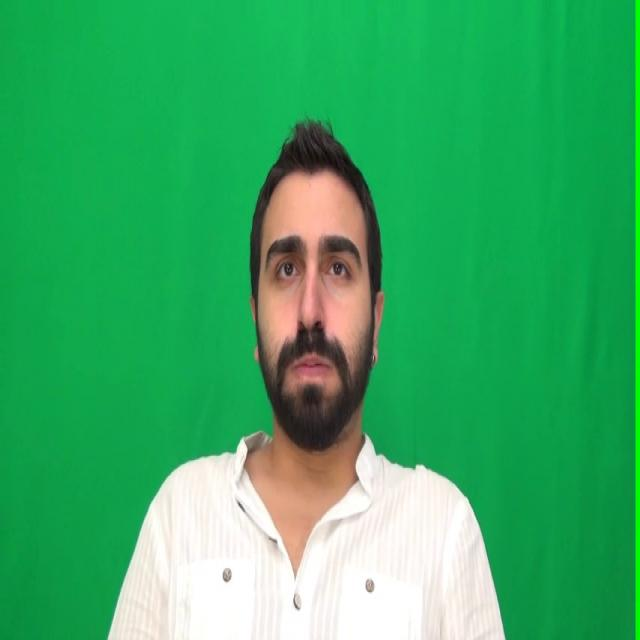Boredom: (260, 176, 373, 447)
